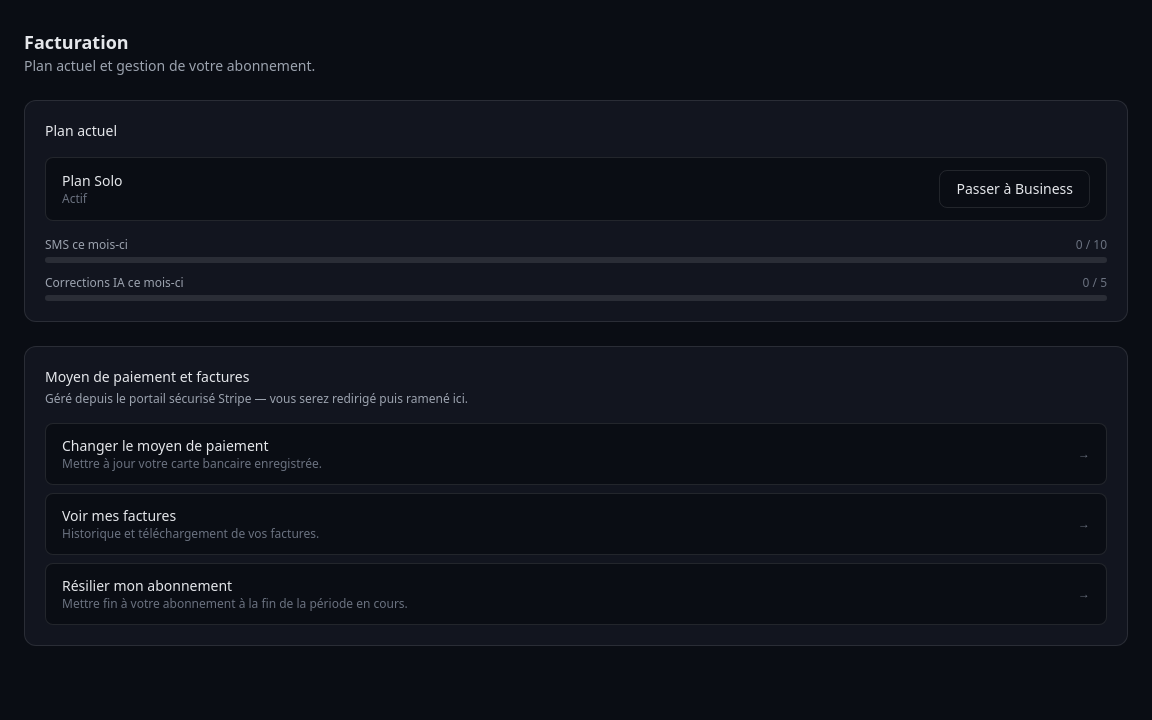
Scenario: BillingContent — compte personnel › ouvre la modale d'upgrade vers Business et affiche l'aperçu de prix
The image size is (1152, 720).
Click the button "Passer à Business": coordinates (1015, 189) [939, 170, 1090, 208]
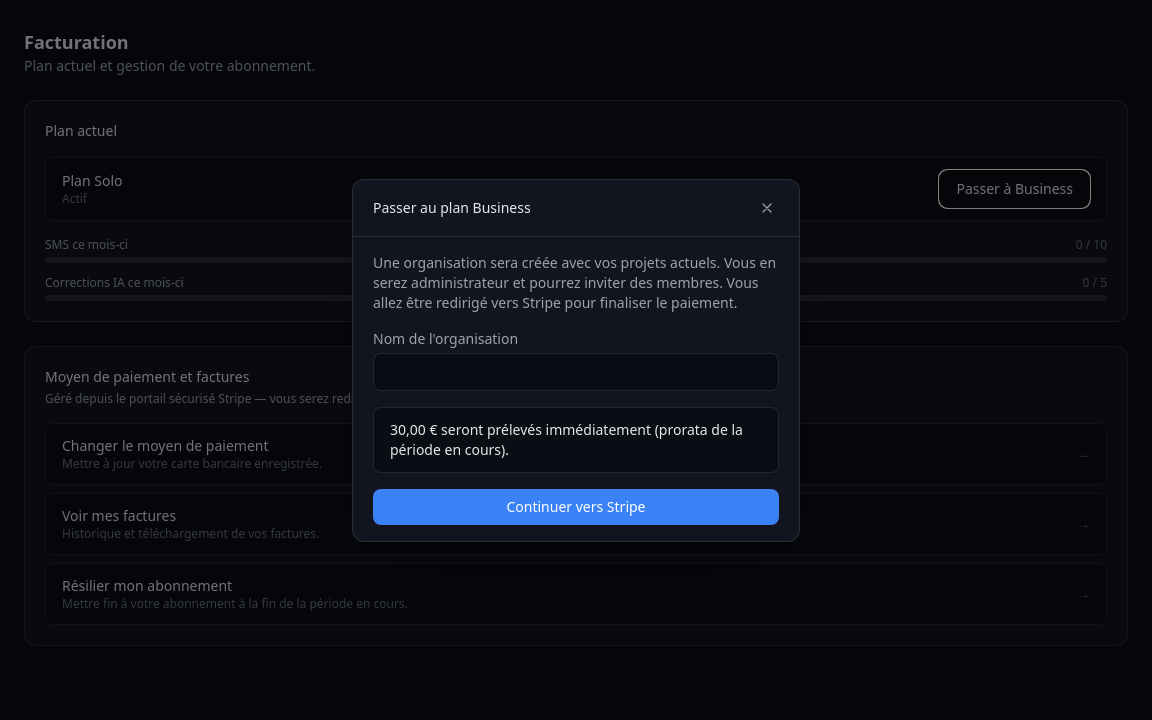
expect the text "seront prélevés immédiatement" is shown: met, box [390, 420, 743, 458]
